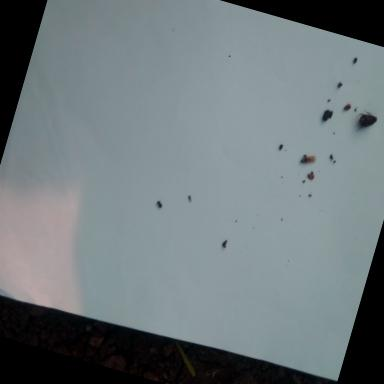pbw: (300, 154, 316, 168)
